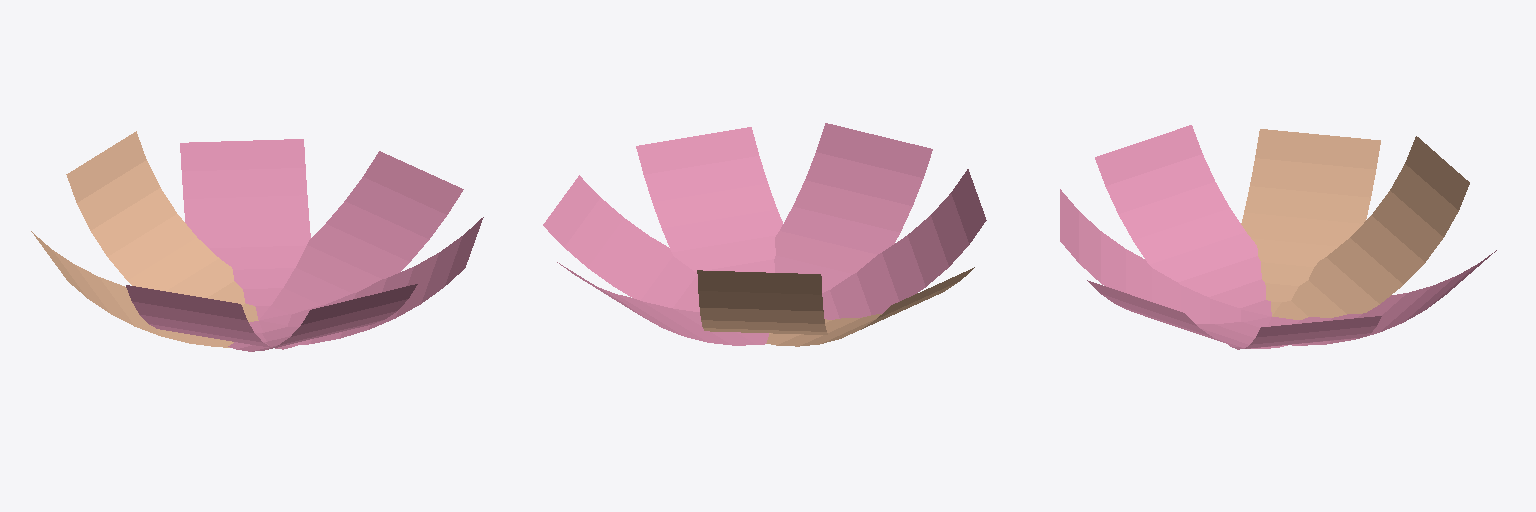
The model's file is flower.obj.
3 views of the same model, side by side, from view 1: azimuth 30°, elevation 25°; view 2: azimuth 150°, elevation 25°; view 3: azimuth 270°, elevation 25° (orthographic).
Visible parts, largest first — view 1: petal7, petal6, petal1, petal3, petal5, petal4, petal2; view 2: petal4, petal5, petal6, petal3, petal1, petal7, petal2; view 3: petal3, petal2, petal1, petal4, petal5, petal7, petal6.
Boxes of the visible parts, <box> form: petal7: <box>180,139,310,319</box>; petal6: <box>260,151,463,319</box>; petal1: <box>66,131,258,320</box>; petal3: <box>126,285,298,349</box>; petal5: <box>259,217,483,345</box>; petal4: <box>228,284,417,351</box>; petal2: <box>31,231,253,347</box>; petal4: <box>774,123,932,292</box>; petal5: <box>636,127,782,274</box>; petal6: <box>543,175,699,311</box>; petal3: <box>822,169,986,319</box>; petal1: <box>697,270,827,334</box>; petal7: <box>557,262,768,345</box>; petal2: <box>766,267,974,346</box>; petal3: <box>1095,125,1271,315</box>; petal2: <box>1241,129,1380,315</box>; petal1: <box>1272,136,1469,319</box>; petal4: <box>1060,189,1271,323</box>; petal5: <box>1087,280,1287,348</box>; petal7: <box>1274,250,1496,345</box>; petal6: <box>1228,316,1381,349</box>.
Bounding box in the file's own units: 36.81 × 10.86 × 35.31.